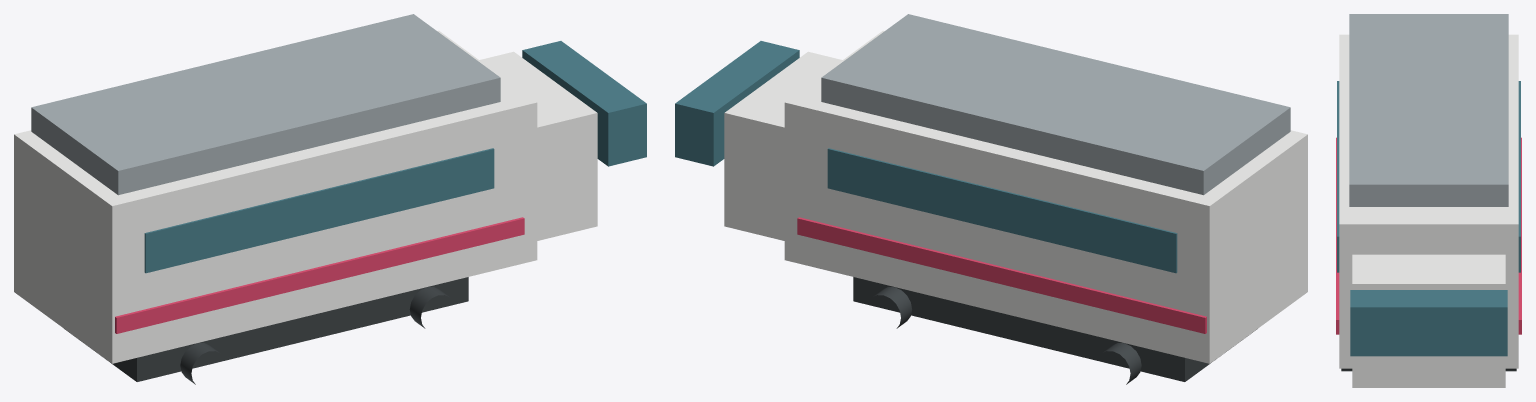
Rendered from desiro-hc.glb.
3 renders of one model, left to right at view 1: azimuth 30°, elevation 25°; view 2: azimuth 150°, elevation 25°; view 3: azimuth 270°, elevation 25°, orthographic. The views are drawn at different scales.
Visible parts, largest first — view 1: body_shell, roof, window_band, front_nose, undercarriage, livery_stripe, front_glass, bogie_front_0, bogie_front_1; view 2: body_shell, roof, window_band, front_nose, undercarriage, livery_stripe, front_glass, bogie_back_0, bogie_back_1; view 3: roof, body_shell, front_glass, front_nose, window_band, livery_stripe.
Part boxes in pixels (box(x1,y1,x2,y2)): body_shell: box(14, 30, 537, 363); roof: box(31, 14, 500, 195); window_band: box(144, 148, 494, 273); front_nose: box(479, 51, 597, 240); undercarriage: box(65, 277, 468, 381); livery_stripe: box(115, 217, 524, 333); front_glass: box(522, 41, 646, 166); bogie_front_0: box(180, 343, 220, 384); bogie_front_1: box(409, 287, 449, 328); body_shell: box(784, 30, 1307, 363); roof: box(821, 14, 1290, 195); window_band: box(827, 148, 1177, 273); front_nose: box(724, 51, 842, 240); undercarriage: box(853, 277, 1256, 381); livery_stripe: box(797, 217, 1206, 333); front_glass: box(675, 41, 799, 166); bogie_back_0: box(1101, 343, 1141, 384); bogie_back_1: box(872, 287, 912, 328); roof: box(1349, 14, 1508, 206); body_shell: box(1339, 34, 1518, 368); front_glass: box(1350, 290, 1507, 356); front_nose: box(1352, 254, 1505, 387); window_band: box(1337, 81, 1520, 272); livery_stripe: box(1336, 137, 1521, 334).
Size of the model in its own units: 2.8 by 1.16 by 0.91.
